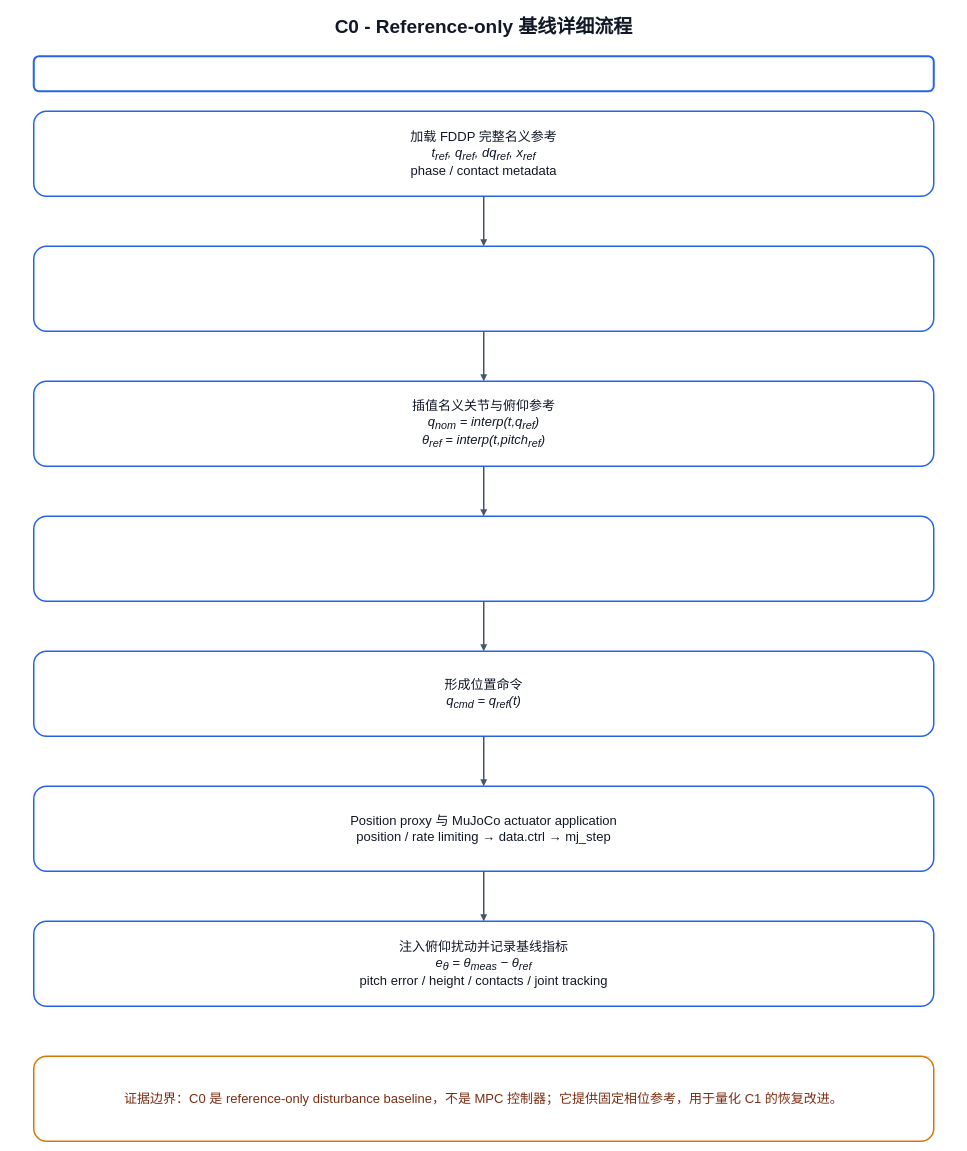
The diagram is 967 pixels wide and 1151 high, and some of its shapes have lost their labels. The box of each missing label's shape, as (x1, y1, x2, y2) in pixels:
不使用反馈修正 α k = 0, Δq k = 0: (33, 515, 934, 602)
使用固定参考时钟 t query = t 无 contact-event phase correction: (33, 245, 934, 332)
固定相位名义参考回放: (32, 55, 934, 92)
